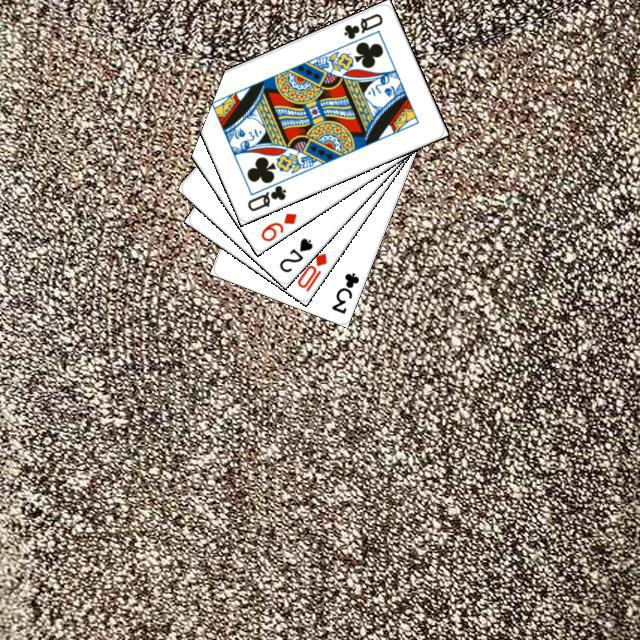10d: (292, 248, 329, 293)
2s: (274, 233, 315, 274)
3c: (326, 267, 361, 315)
9d: (256, 208, 299, 243)
Qc: (242, 174, 288, 213), (338, 8, 384, 41)
